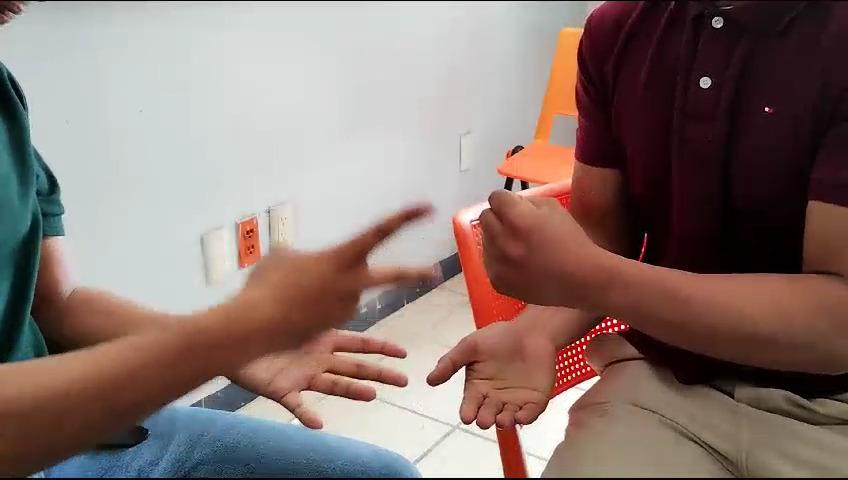Scissor: (228, 192, 457, 346)
Stone: (442, 180, 608, 352)
